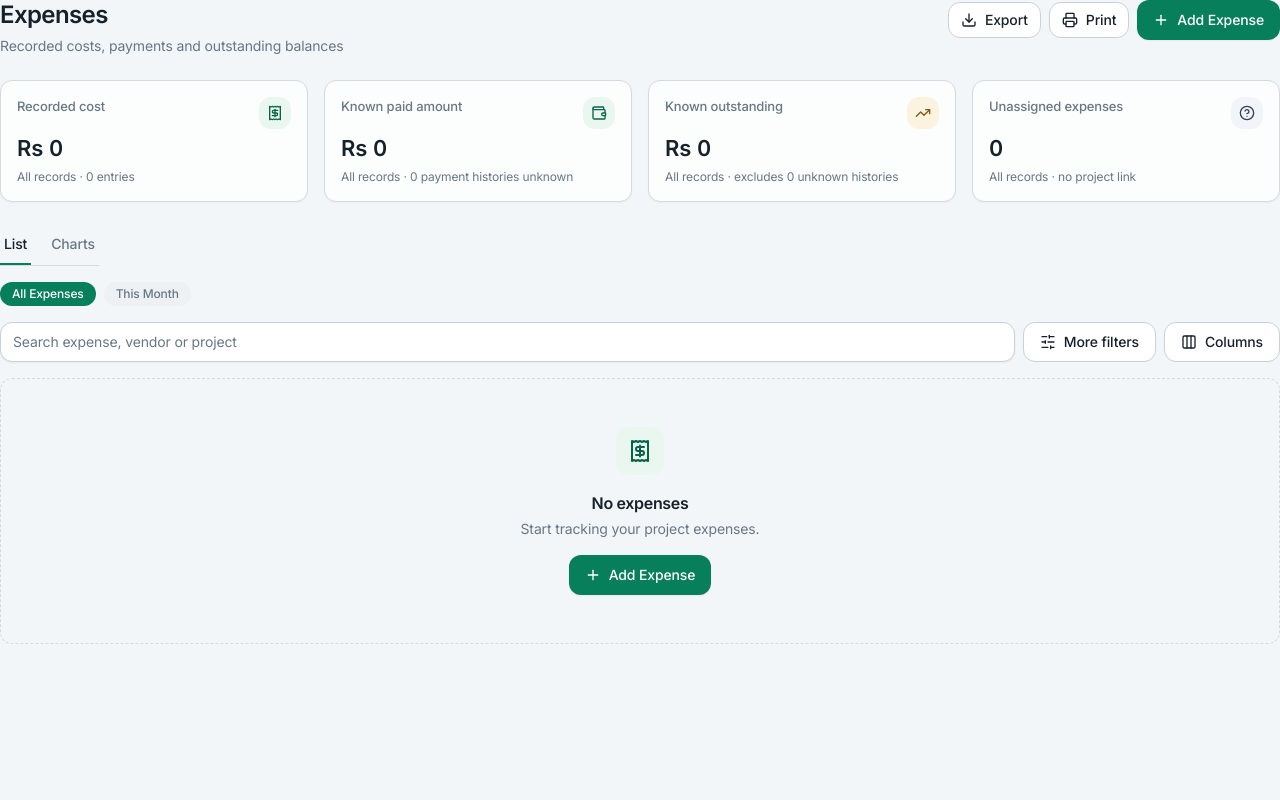
Scenario: expense creation workflow › does not submit a negative amount
Click the 1st button "Add Expense" at (1209, 20), box [1137,0,1279,40]
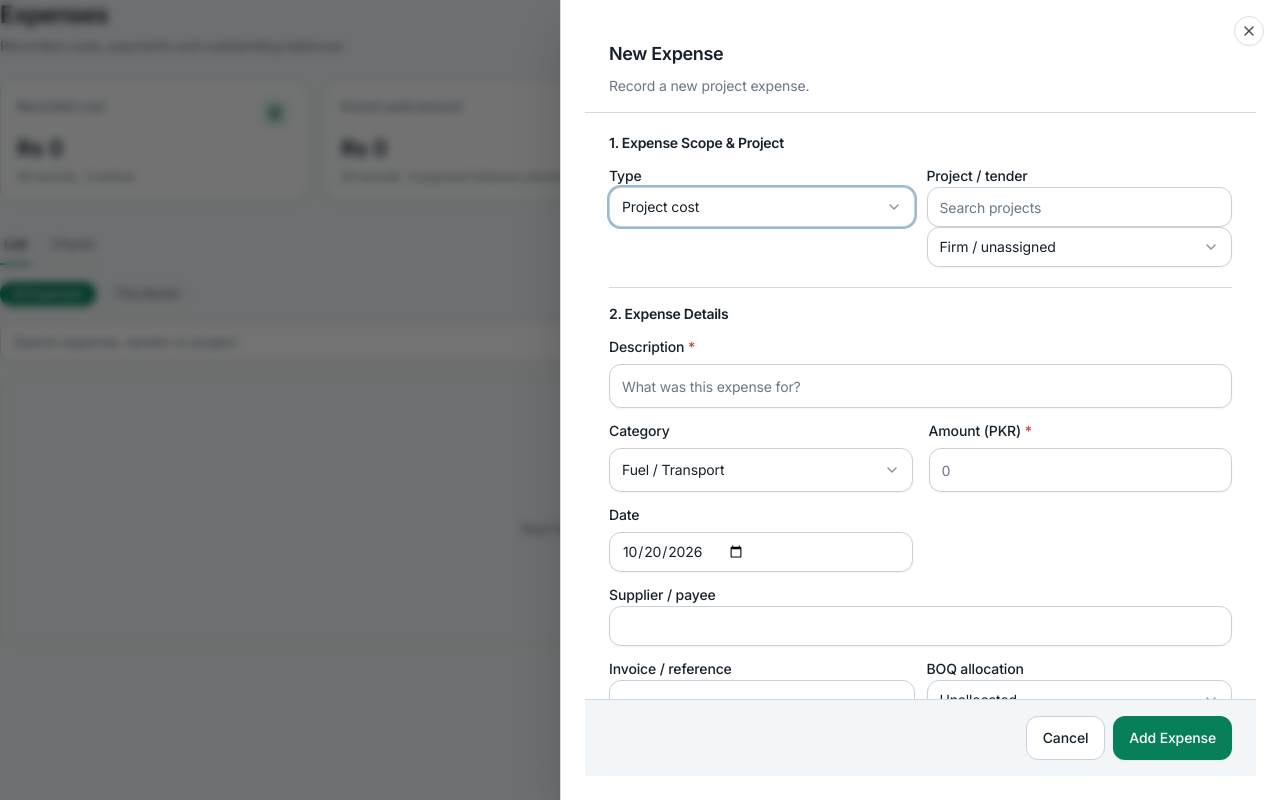
Type "Transport" into the field labelled "Description *" at (920, 386), box [609,364,1232,408]
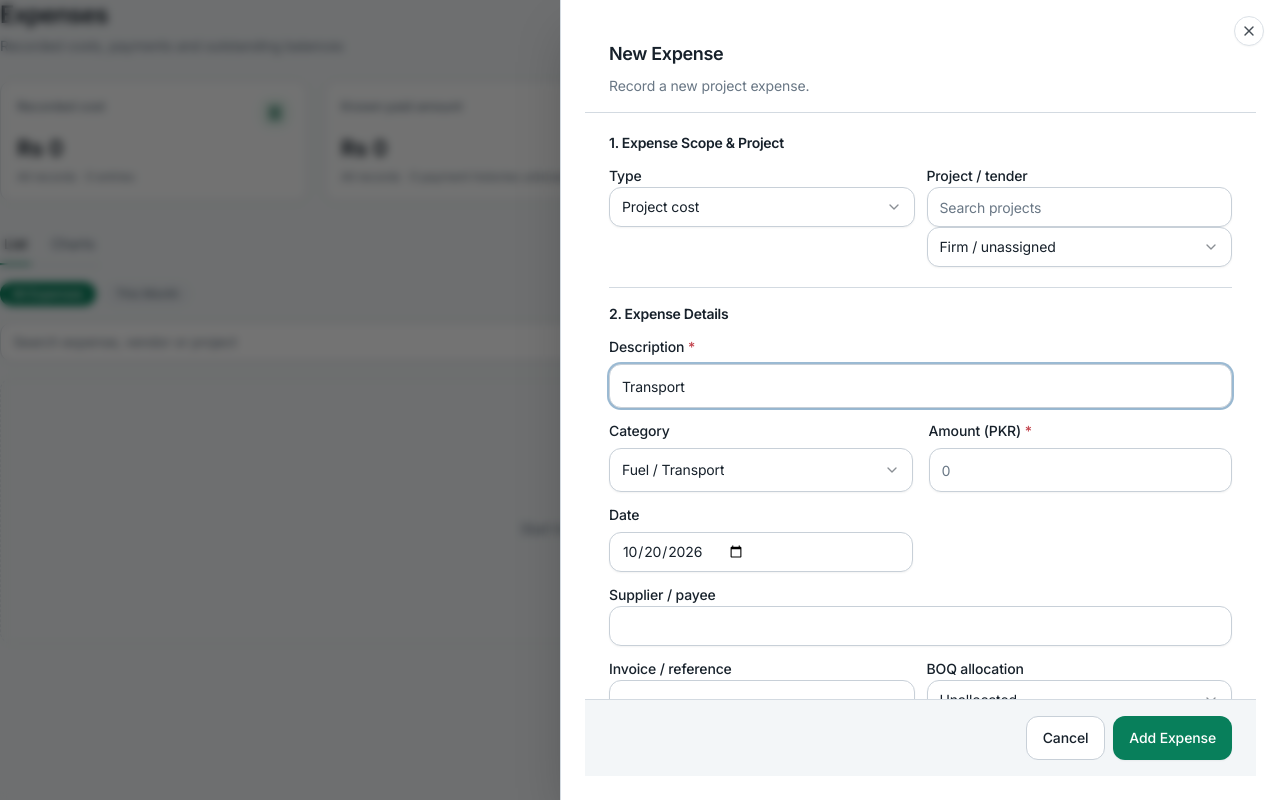
Type "-1" into the number field labelled "Amount (PKR) *" at (1080, 470), box [928,448,1232,492]
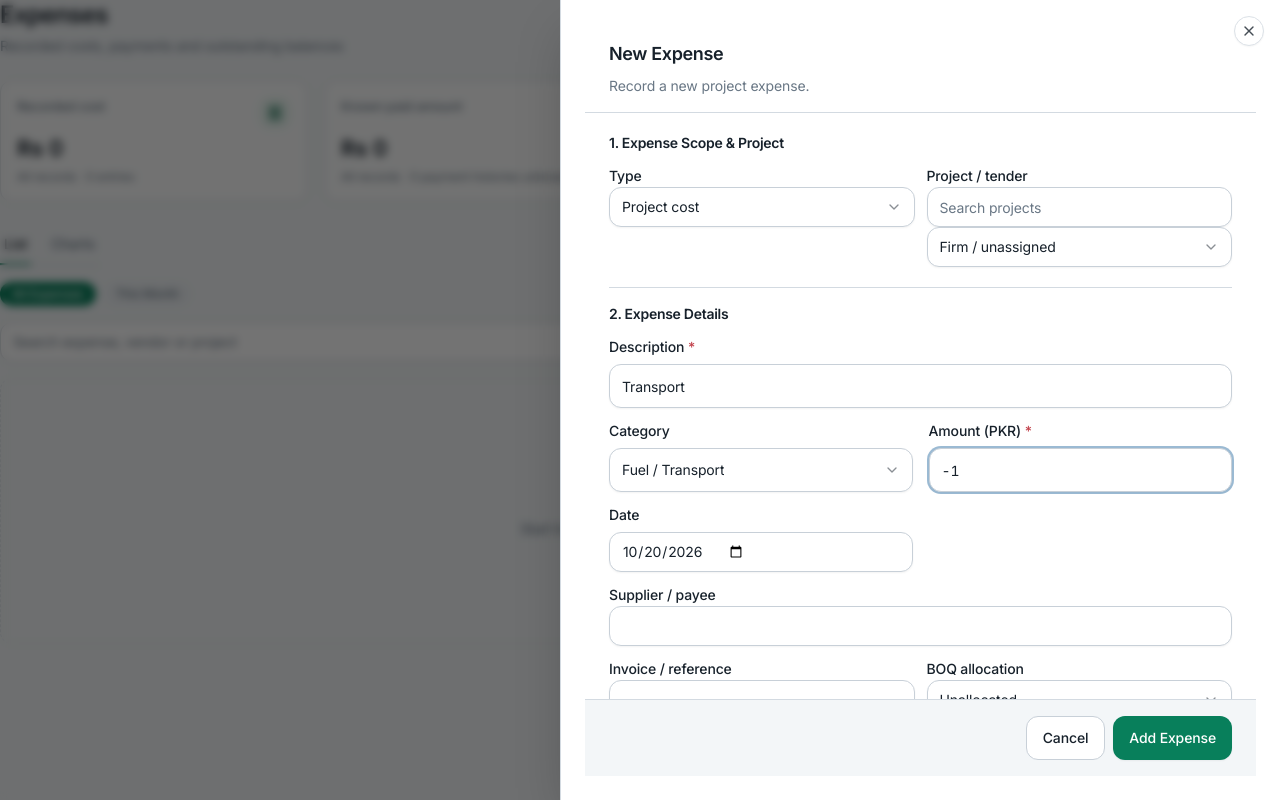
Click the button "Add Expense" at (1173, 738), box [1113,716,1232,760]
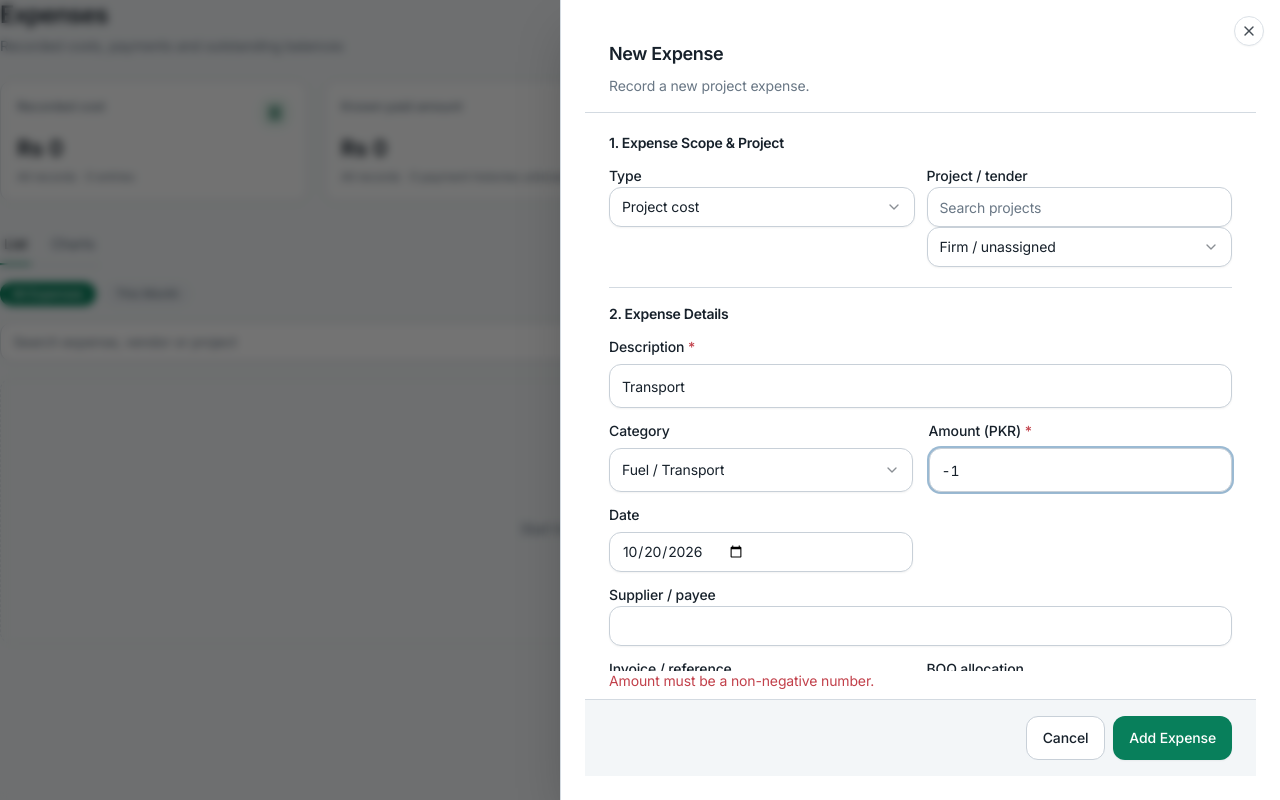
expect the message shows "Amount must be a non-negative number": met, box [609,672,874,689]
